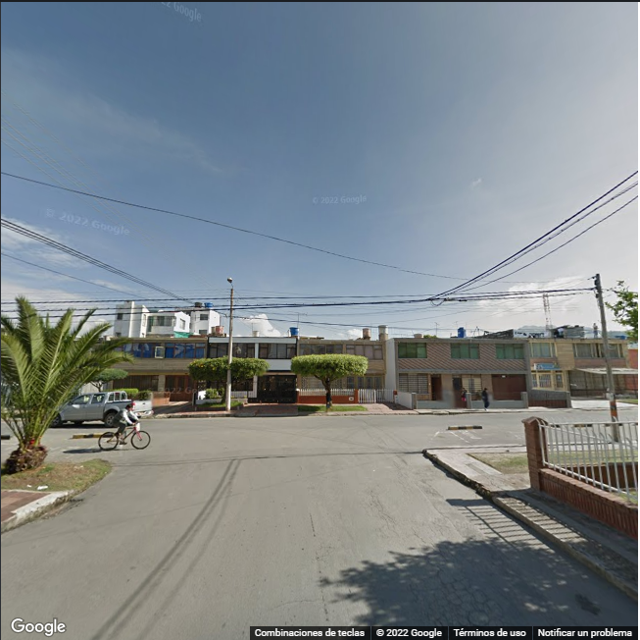D20: (412, 569, 500, 626)
